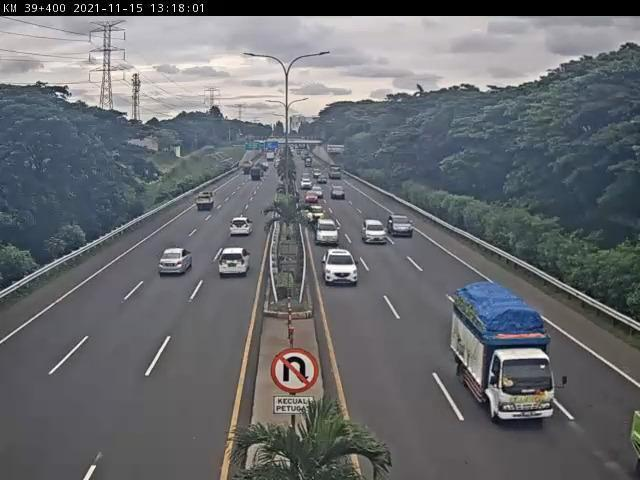car: (323, 248, 360, 287), (218, 248, 252, 279), (158, 249, 194, 278), (361, 219, 390, 248), (387, 214, 415, 241), (314, 218, 340, 246), (230, 216, 253, 238), (305, 203, 326, 225)
truck: (451, 281, 560, 423), (194, 189, 217, 213)
